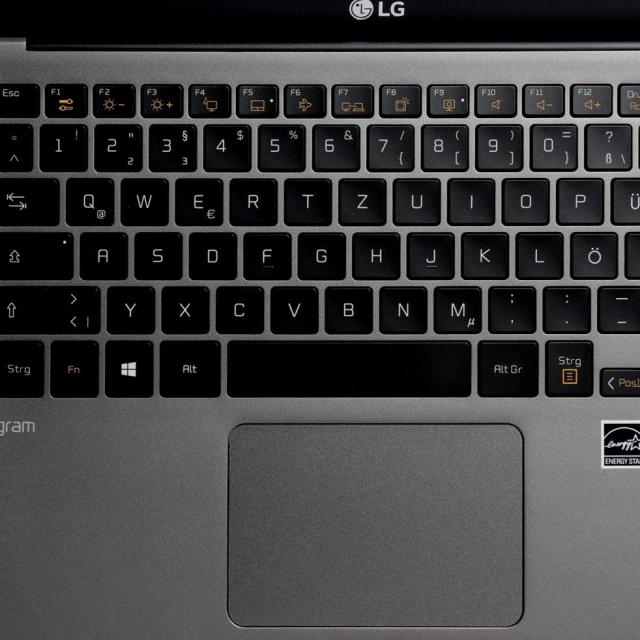0: (528, 121, 578, 170)
1: (38, 121, 86, 171)
2: (92, 121, 142, 171)
3: (146, 121, 196, 171)
4: (201, 121, 251, 171)
5: (256, 121, 306, 171)
6: (311, 121, 361, 171)
7: (364, 121, 413, 171)
8: (418, 121, 467, 170)
9: (473, 121, 522, 170)
a: (77, 229, 127, 279)
ae: (624, 229, 640, 277)
alt-left: (157, 338, 220, 396)
altgr-right: (475, 337, 538, 397)
b: (322, 283, 373, 333)
c: (213, 284, 264, 334)
caret: (0, 121, 32, 171)
comma: (486, 283, 535, 331)
d: (186, 229, 237, 279)
e: (172, 175, 222, 225)
f: (241, 230, 290, 279)
g: (296, 230, 346, 279)
h: (350, 229, 399, 279)
i: (445, 175, 495, 224)
j: (405, 229, 454, 279)
k: (459, 229, 508, 278)
keyboard: (0, 47, 640, 420)
l: (514, 229, 563, 278)
less: (47, 285, 101, 333)
m: (431, 283, 481, 333)
minus: (595, 282, 640, 332)
n: (377, 283, 427, 333)
o: (499, 175, 549, 224)
oe: (568, 229, 618, 279)
p: (554, 175, 604, 224)
point: (540, 283, 590, 331)
q: (62, 175, 113, 226)
r: (227, 175, 276, 224)
s: (131, 230, 181, 279)
shift-left: (0, 283, 44, 333)
shift-lock: (0, 229, 73, 280)
space: (225, 339, 470, 396)
ss: (582, 121, 632, 170)
strg-left: (0, 337, 43, 397)
strg-right: (544, 339, 594, 397)
t: (282, 175, 331, 224)
tab: (0, 174, 59, 225)
u: (391, 175, 441, 225)
ue: (608, 174, 640, 224)
v: (267, 283, 318, 333)
w: (118, 174, 168, 224)
x: (159, 283, 209, 333)
y: (104, 283, 155, 333)
z: (336, 175, 386, 225)
